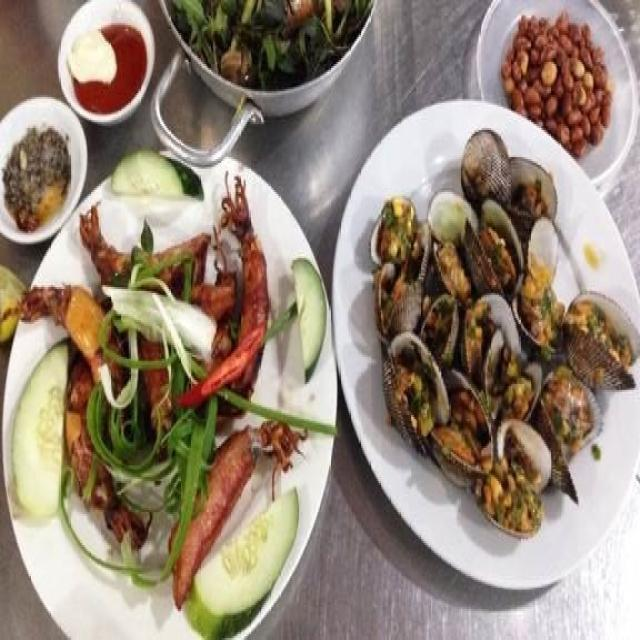dau phong rang: (490, 2, 640, 140)
muc muoi: (16, 190, 293, 607)
so huyet nuong mo hanh: (358, 122, 640, 548)
